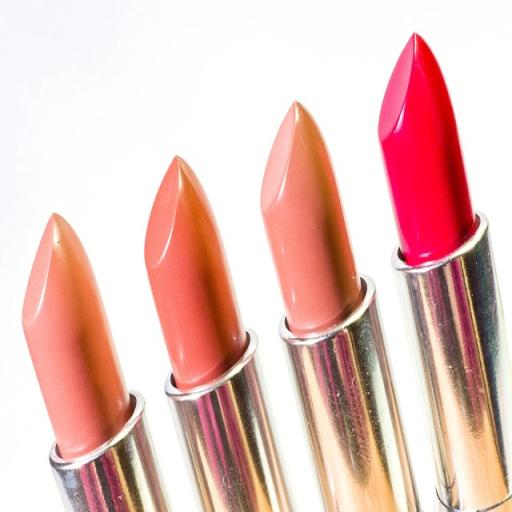lipstick: (261, 104, 419, 510), (379, 35, 511, 510), (145, 158, 289, 510), (23, 214, 168, 510)
